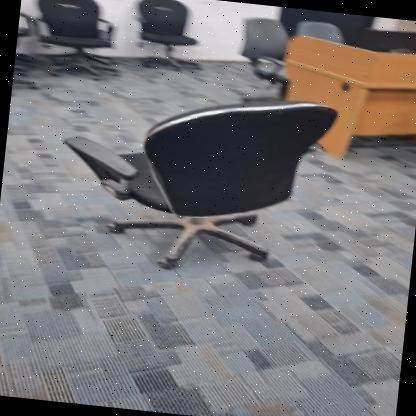chair: (46, 63, 340, 292), (17, 0, 134, 89), (120, 0, 213, 81)
